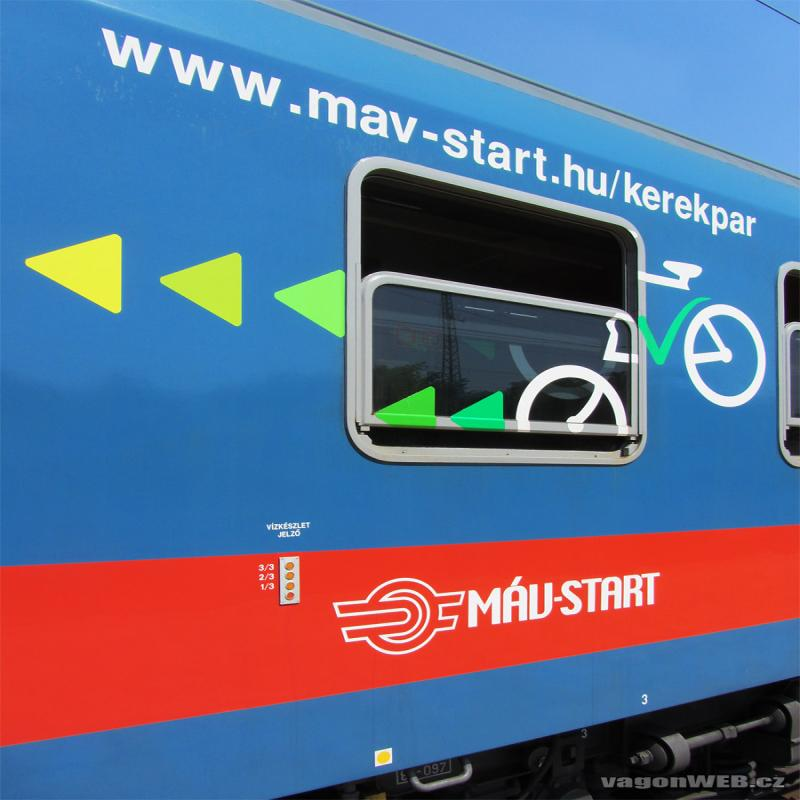train: (1, 1, 800, 800)
